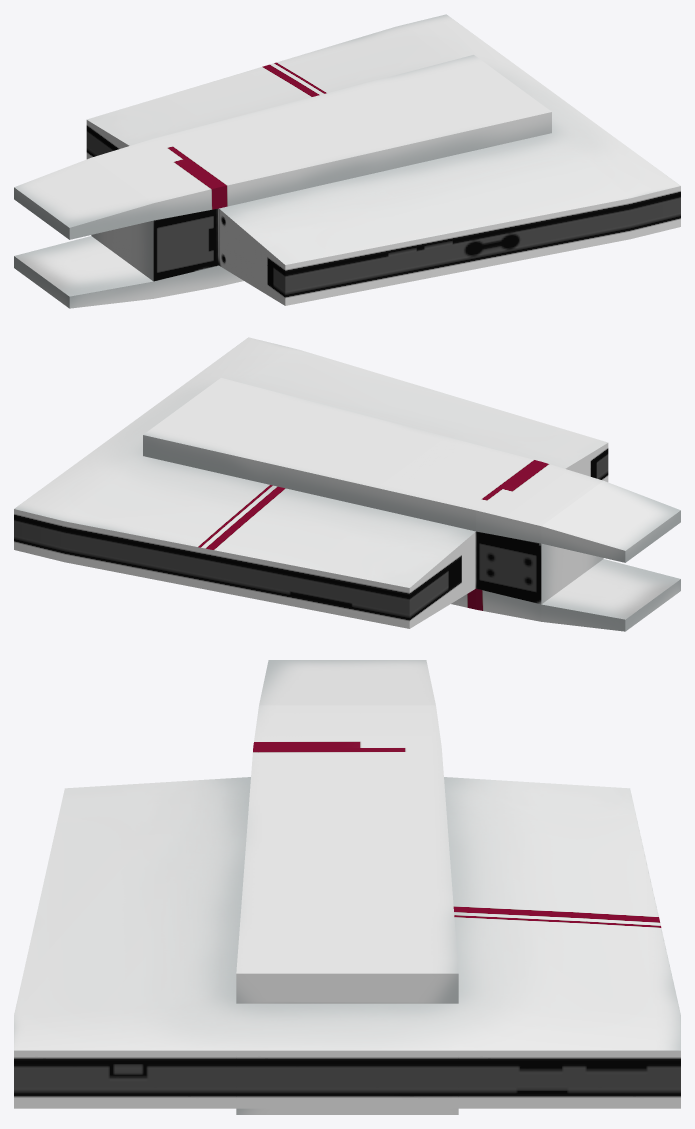
File: astronautDoorLower 1.fbx
The picture shows the model from 3 angles, top to bottom: view 1: azimuth 30°, elevation 25°; view 2: azimuth 150°, elevation 25°; view 3: azimuth 270°, elevation 25°; orthographic projection. The views are drawn at different scales.
Visible parts, largest first — view 1: polySurface2; view 2: polySurface2; view 3: polySurface2.
Part boxes in pixels (<box>): polySurface2: <box>14,14,680,308</box>; polySurface2: <box>14,337,680,631</box>; polySurface2: <box>14,660,680,1114</box>.
Size of the model in its own units: 7.26 by 1.32 by 5.65.
1 material, 1 textured.
